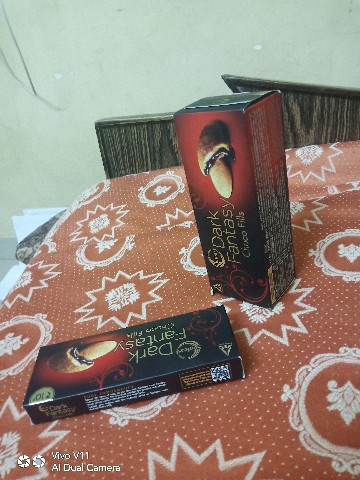darkfantasy big: (170, 56, 309, 307)
darkfantasy small: (18, 303, 252, 419)
